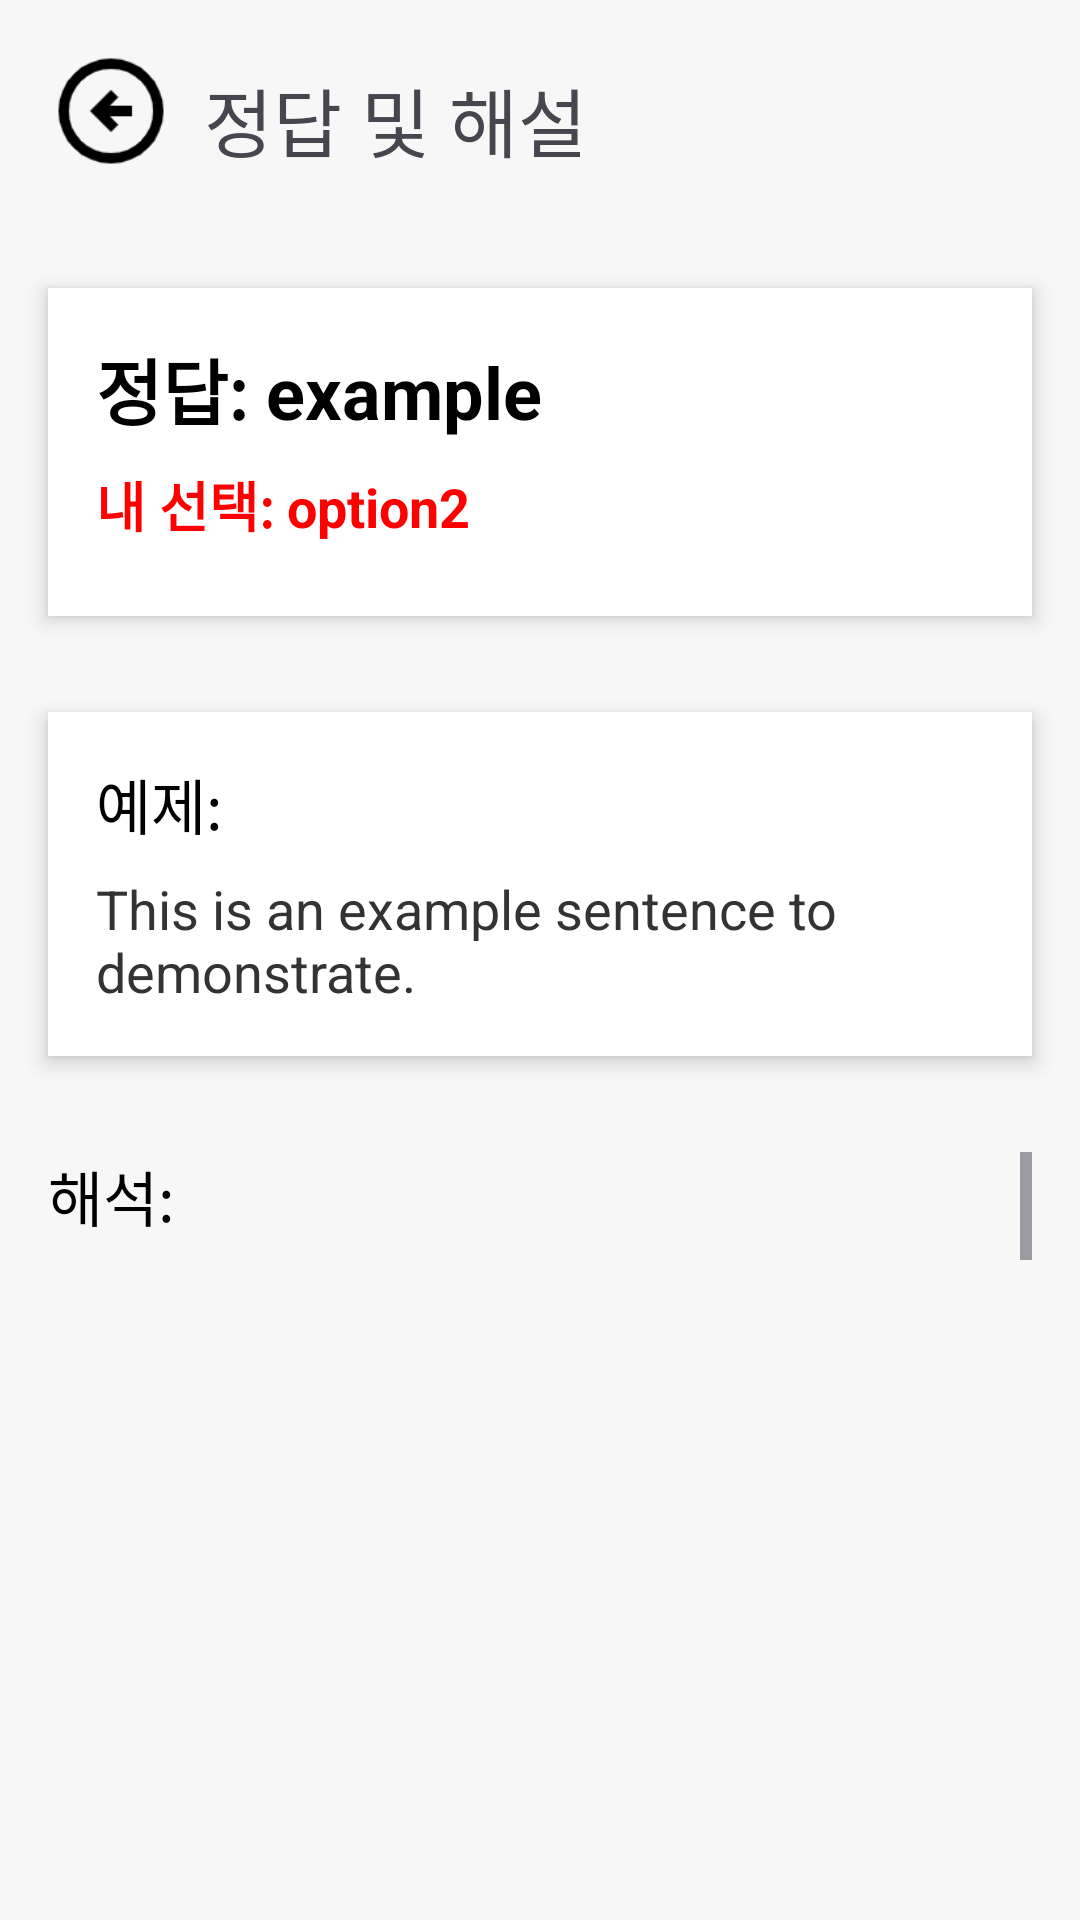

Locate icon controls on the screen. Image size 1080px x 1920px, boxes as box=[x1, y1, x2, y2].
back: box=[58, 58, 164, 164]
